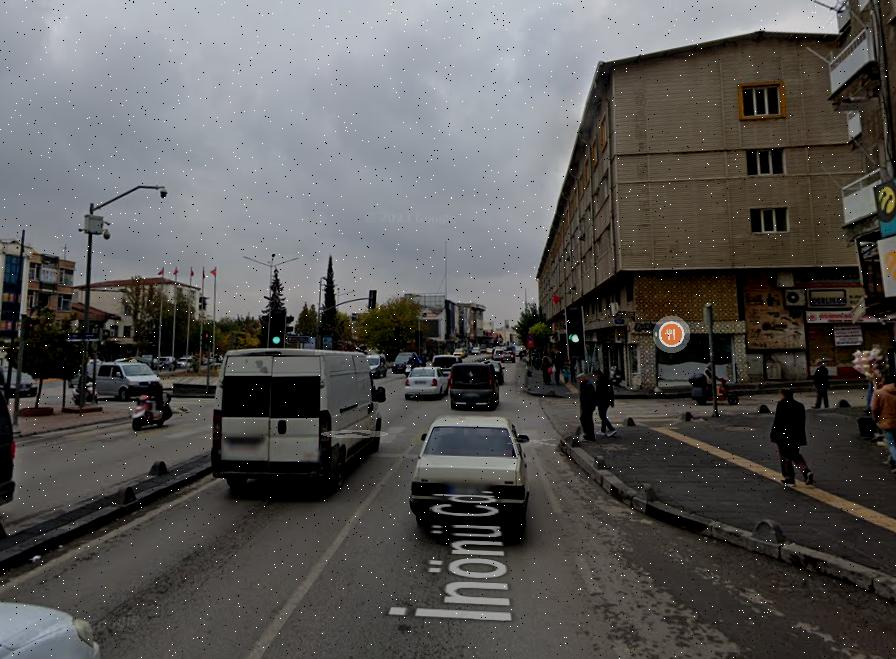greenlight: (566, 306, 585, 349), (268, 308, 284, 344)
